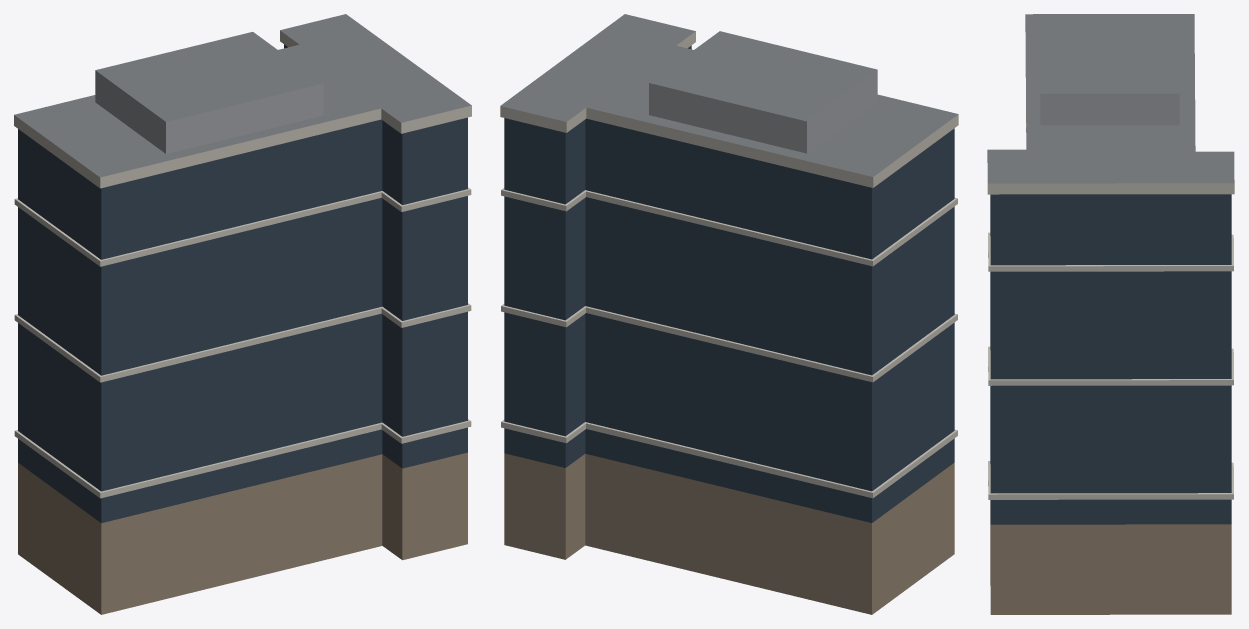
File: 40_south_900_east.glb
3 renders of one model, left to right at view 1: azimuth 30°, elevation 25°; view 2: azimuth 150°, elevation 25°; view 3: azimuth 270°, elevation 25°, orthographic.
Visible parts, largest first — view 1: 40_South_900_East; view 2: 40_South_900_East; view 3: 40_South_900_East.
Boxes of the visible parts, box(x1,y1,x2,y2) form: 40_South_900_East: box(14, 14, 471, 614); 40_South_900_East: box(500, 14, 958, 614); 40_South_900_East: box(987, 14, 1234, 614).
Size of the model in its own units: 40.29 by 51.4 by 24.79.
